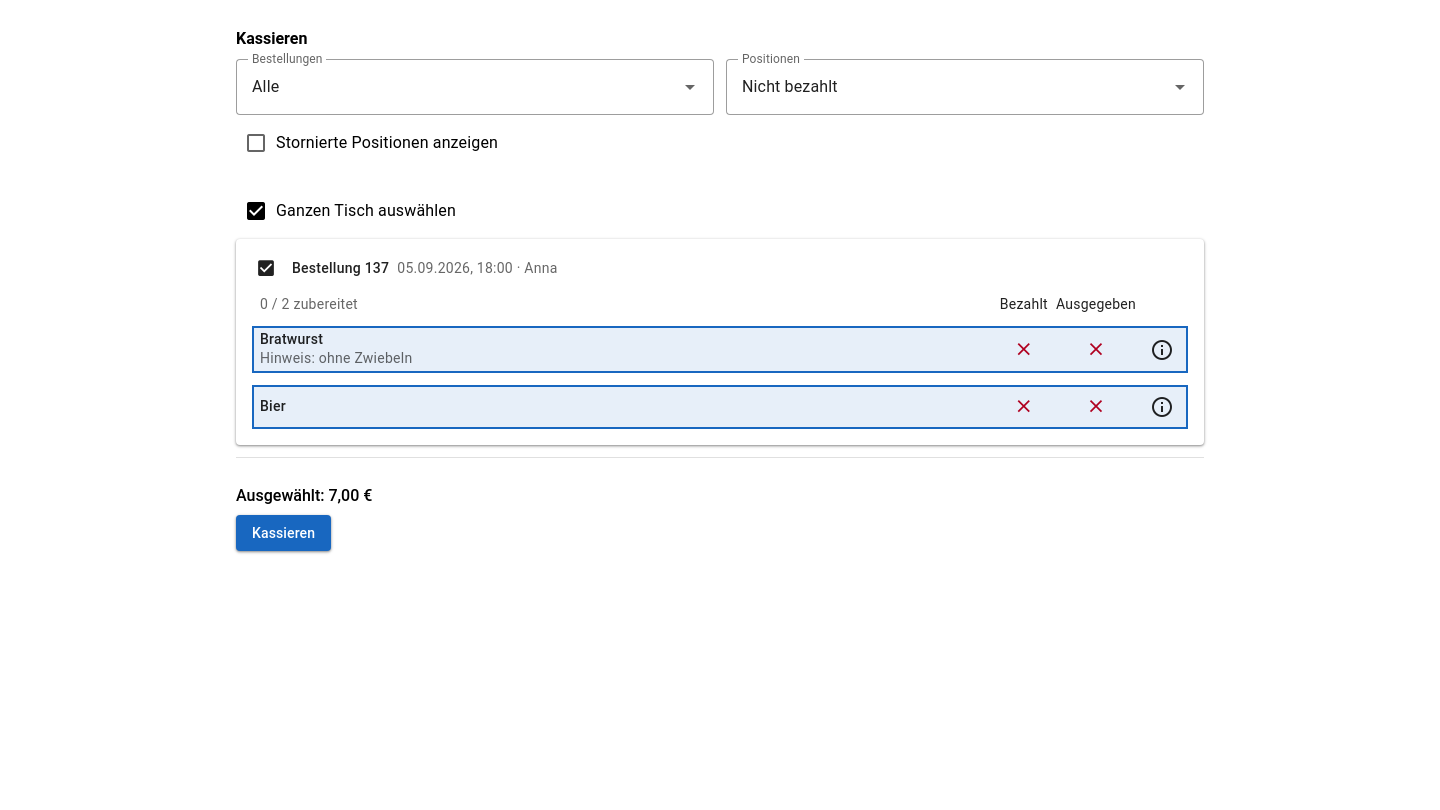
settling items somebody else had already settled › warns that somebody else had already settled part of the selection
This screenshot has width=1440, height=810.
Click the button with test id "settle": (284, 533) 236,515 -> 331,551
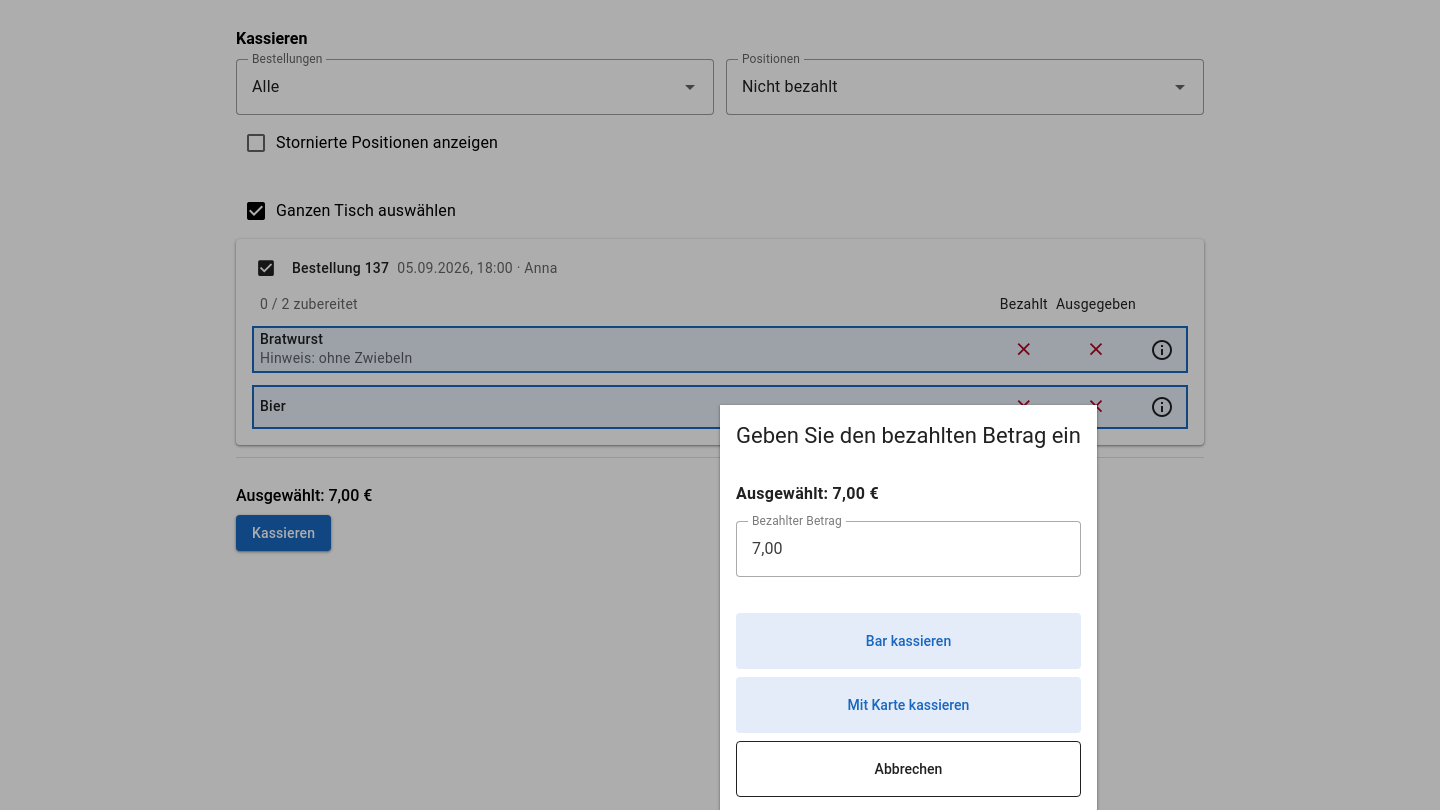
Click the button with test id "confirm-in-cash": (908, 641) 736,613 -> 1081,669
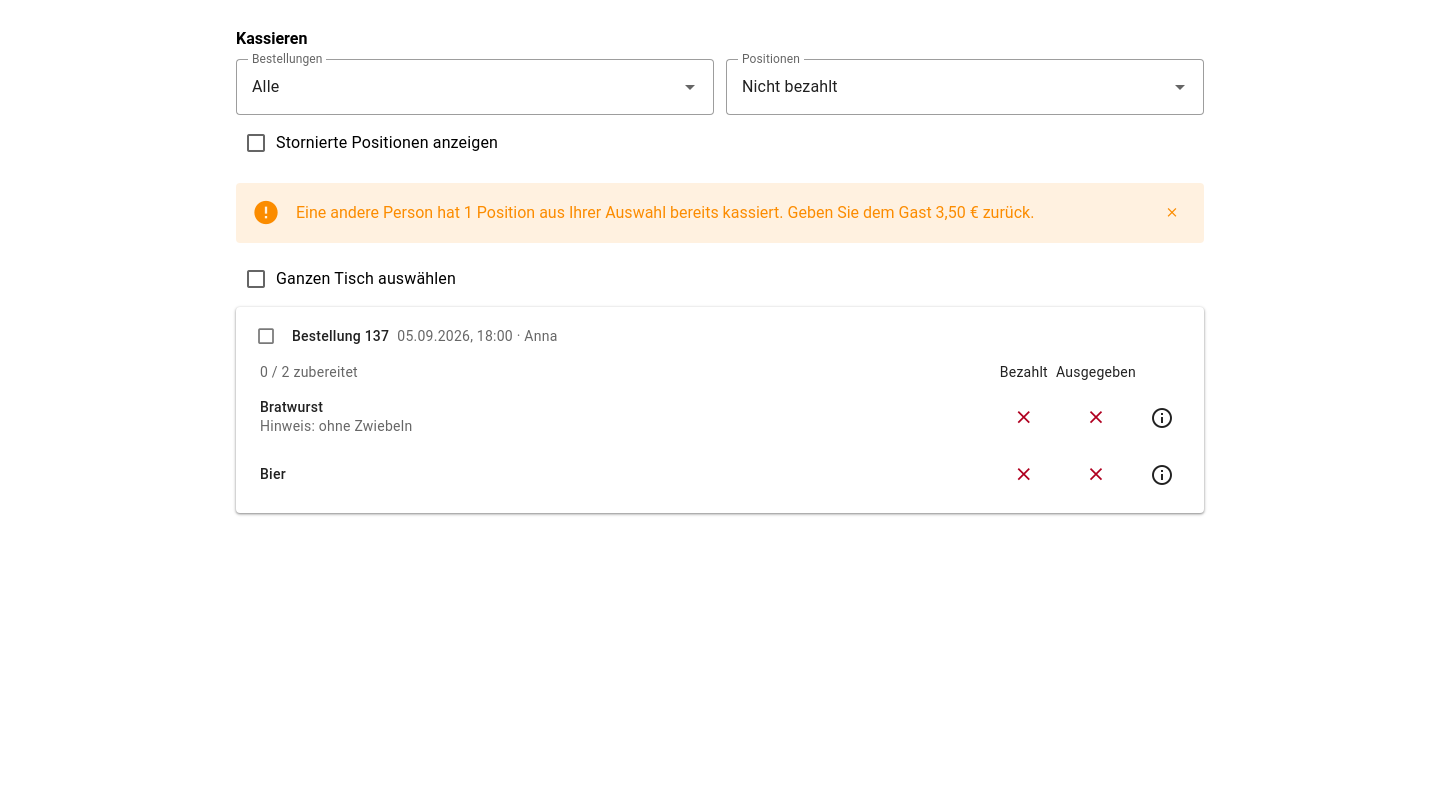
Expected: the element with test id "settle-notice" shows "Eine andere Person hat 1 Position aus Ihrer Auswahl bereits kassiert. Geben Sie dem Gast 3,50 € zurück.", 296,203 -> 1034,222
